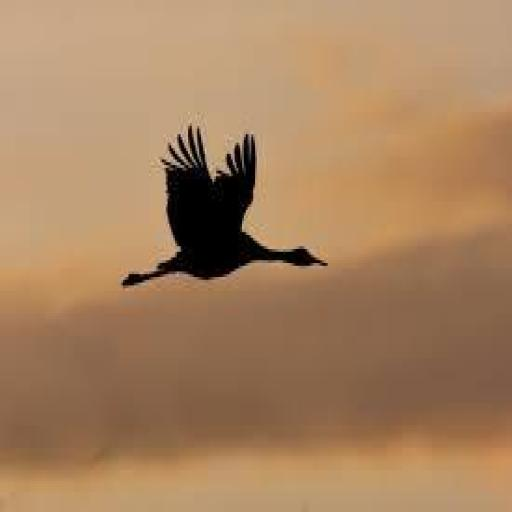birds: (105, 119, 329, 292)
